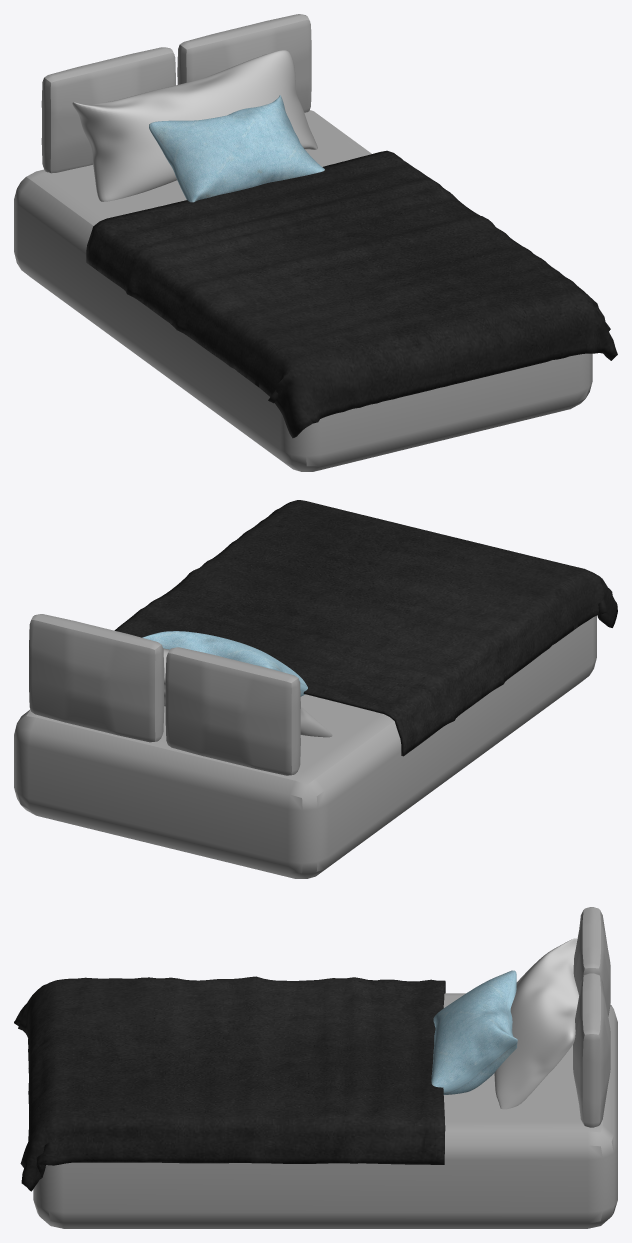
Rendered from bed02.fbx.
3 renders of one model, top to bottom at view 1: azimuth 30°, elevation 25°; view 2: azimuth 150°, elevation 25°; view 3: azimuth 270°, elevation 25°, orthographic.
Parts seen in each view (by area): view 1: bed_room:Plane01, pCube60, bed_room:Box02, bed_room:Box04, pCube62, pCube61; view 2: bed_room:Plane01, pCube60, pCube62, pCube61, bed_room:Box04, bed_room:Box02; view 3: bed_room:Plane01, pCube60, bed_room:Box02, bed_room:Box04, pCube61, pCube62.
Part boxes in pixels (x1=…): bed_room:Plane01: x1=86, y1=150, x2=617, y2=438; pCube60: x1=14, y1=110, x2=592, y2=471; bed_room:Box02: x1=72, y1=50, x2=317, y2=201; bed_room:Box04: x1=149, y1=95, x2=324, y2=202; pCube62: x1=41, y1=47, x2=175, y2=173; pCube61: x1=177, y1=14, x2=311, y2=112; bed_room:Plane01: x1=114, y1=500, x2=617, y2=756; pCube60: x1=14, y1=615, x2=596, y2=878; pCube62: x1=165, y1=647, x2=300, y2=775; pCube61: x1=29, y1=614, x2=164, y2=742; bed_room:Box04: x1=142, y1=631, x2=307, y2=696; bed_room:Box02: x1=163, y1=648, x2=332, y2=737; bed_room:Plane01: x1=14, y1=976, x2=445, y2=1191; pCube60: x1=33, y1=993, x2=617, y2=1228; bed_room:Box02: x1=494, y1=938, x2=578, y2=1109; bed_room:Box04: x1=431, y1=970, x2=517, y2=1094; pCube61: x1=573, y1=973, x2=610, y2=1127; pCube62: x1=573, y1=907, x2=610, y2=1016.
Bounding box in the file's own units: 17.75 × 10.11 × 27.92.
